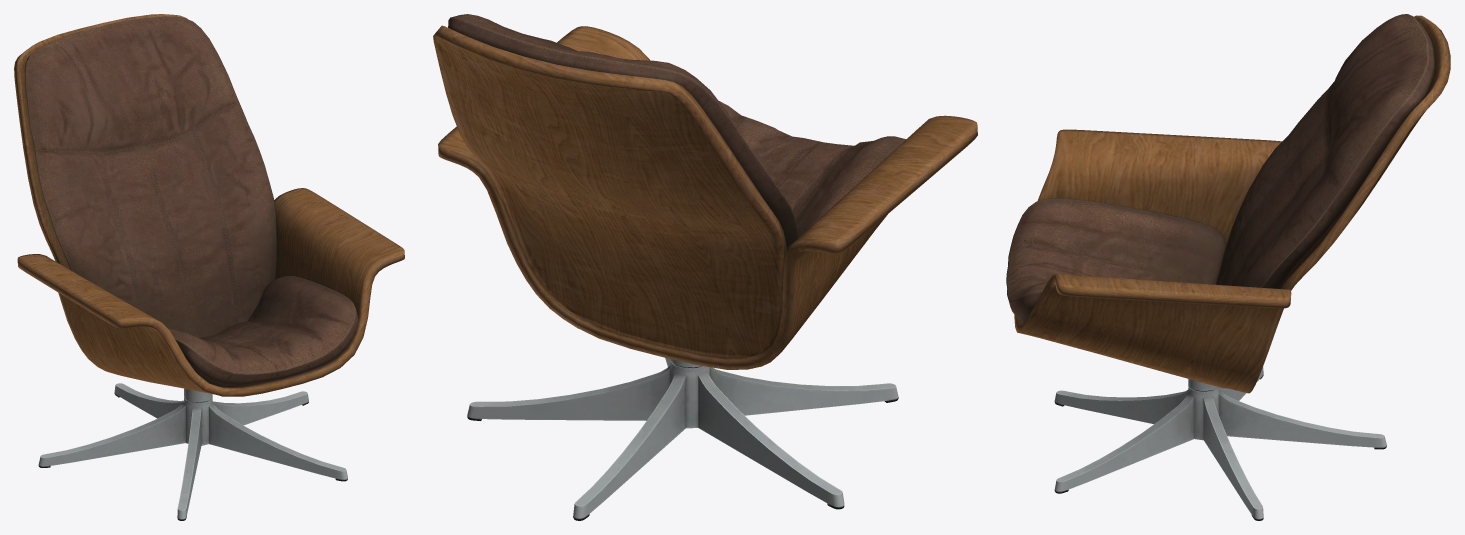
The model's file is mid_century_lounge_chair.gltf.
The picture shows the model from 3 angles, left to right: view 1: azimuth 30°, elevation 25°; view 2: azimuth 150°, elevation 25°; view 3: azimuth 270°, elevation 25°; orthographic projection. The views are drawn at different scales.
Visible parts, largest first — view 1: lod0; view 2: lod0; view 3: lod0.
Part boxes in pixels (x1,y1,x2,y2): lod0: (14,14,404,520); lod0: (433,14,977,520); lod0: (1006,14,1450,520).
Bounding box in the file's own units: 1.01 × 1.17 × 1.19.
1 material, 1 textured.
